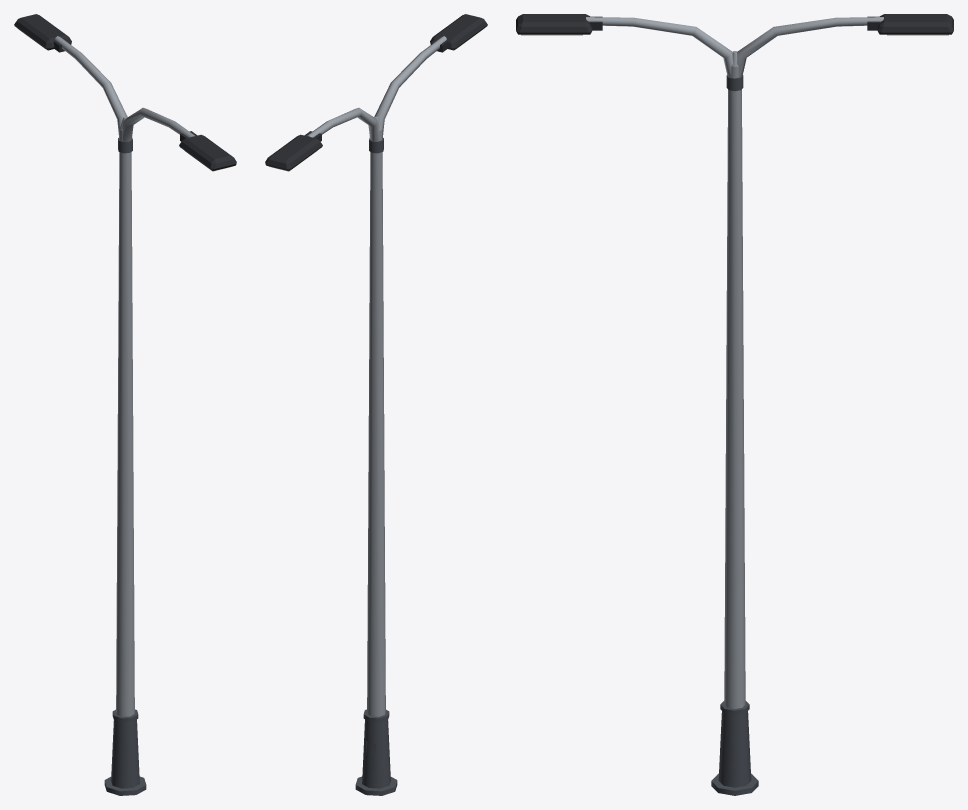
The model's file is street_lamp_double.glb.
The picture shows the model from 3 angles, left to right: view 1: azimuth 30°, elevation 25°; view 2: azimuth 150°, elevation 25°; view 3: azimuth 270°, elevation 25°; orthographic projection. The views are drawn at different scales.
Visible parts, largest first — view 1: street_lamp_double__mesh; view 2: street_lamp_double__mesh; view 3: street_lamp_double__mesh.
Part boxes in pixels (x1,y1,x2,y2): street_lamp_double__mesh: [14, 14, 236, 795]; street_lamp_double__mesh: [265, 14, 487, 795]; street_lamp_double__mesh: [516, 14, 953, 795].
Bounding box in the file's own units: 0.42 × 7.51 × 3.88.
1 material, 1 textured.
